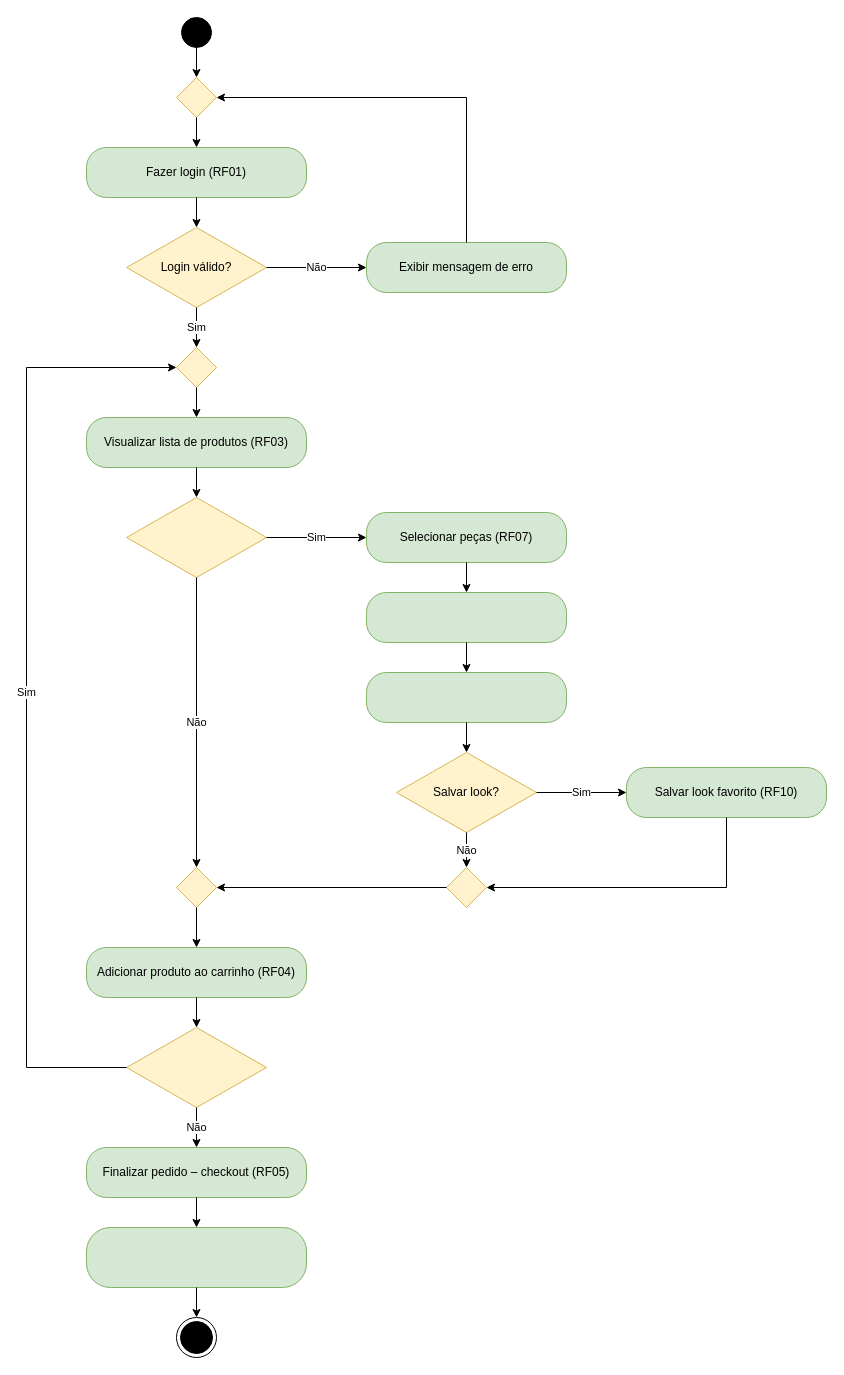
Image size: 844x1375. Some labels were removed from this diagram. The centre of each missing label's shape, as x and y in pixels:
Continuar comprando?: the point at 196,1067
Montar combinação (RF08): the point at 466,617
Registrar e exibir histórico de compras (RF06): the point at 196,1257
Usar provador virtual?: the point at 196,537
Ver sugestões de looks (RF09): the point at 466,697
